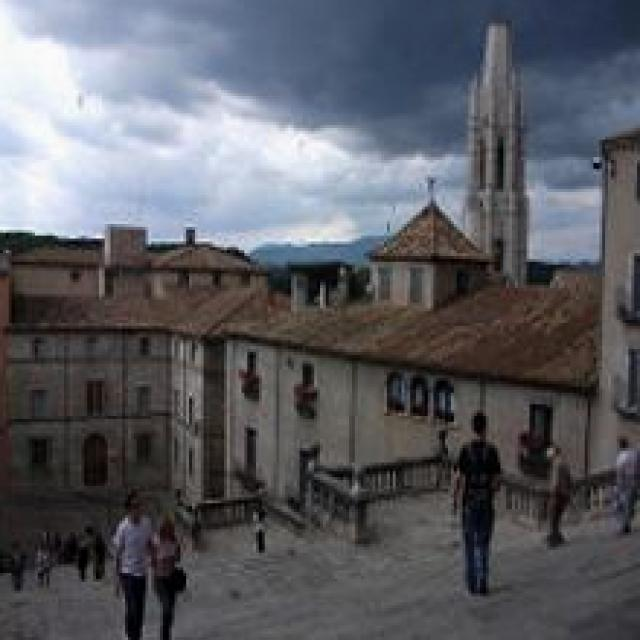downstair: (370, 530, 640, 640)
